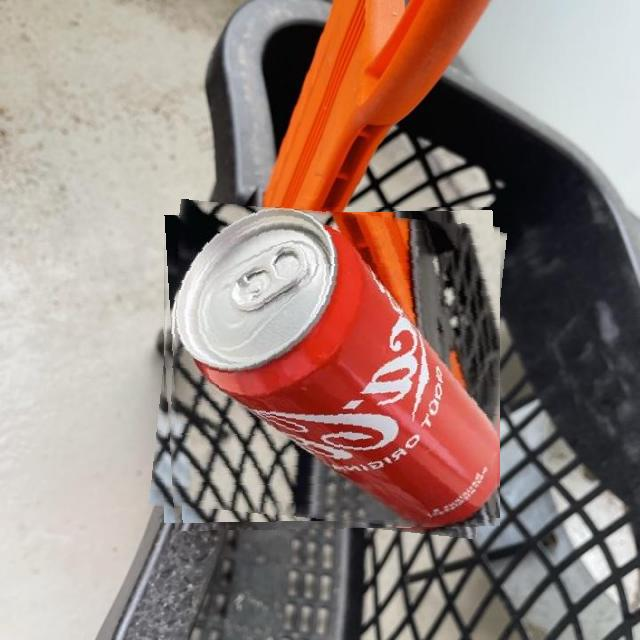recyclable: (156, 207, 500, 531)
